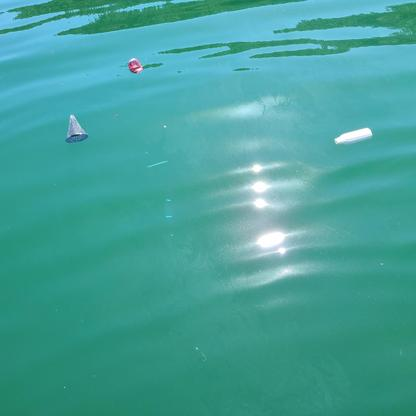can: (128, 58, 142, 69)
plastic bottle: (334, 127, 372, 148)
